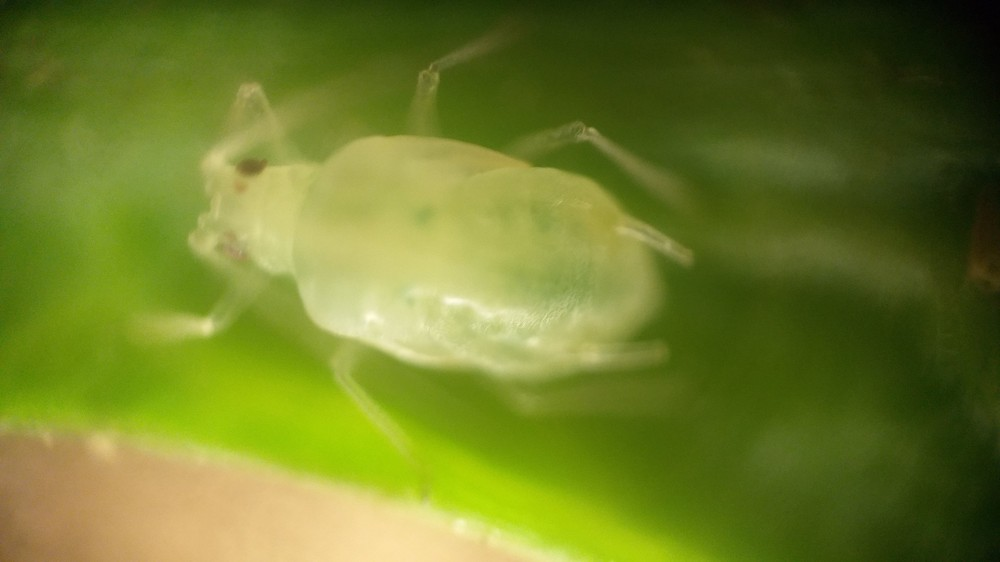Pulgon: (134, 44, 763, 463)
